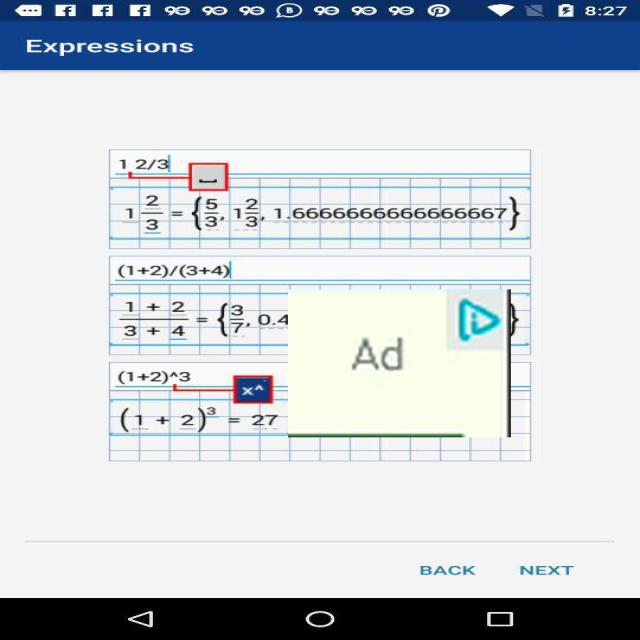sneaking: (288, 290, 511, 438)
